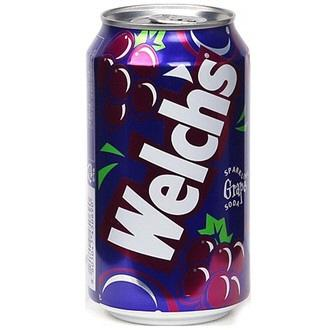welchs_grape: (72, 0, 258, 326)
